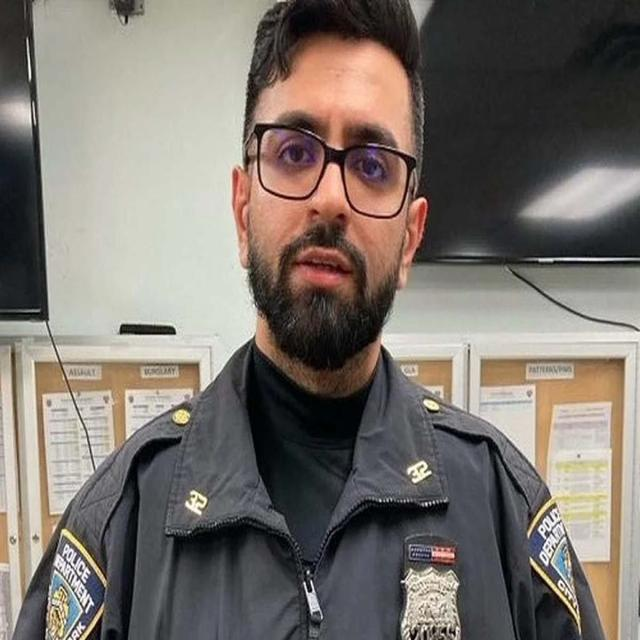police: (40, 1, 608, 640)
